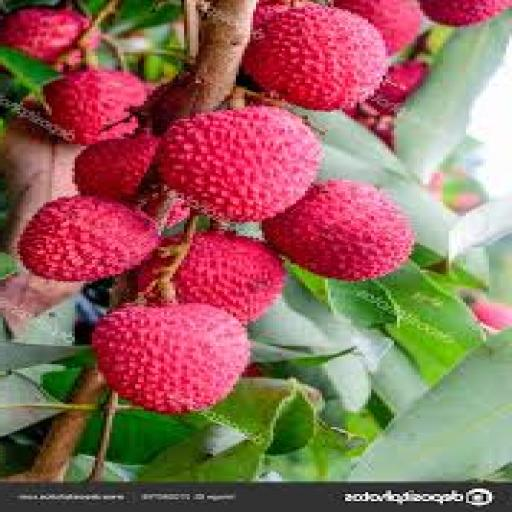lychee: (158, 107, 318, 221), (92, 305, 249, 414), (261, 181, 413, 281), (244, 4, 384, 109), (17, 197, 157, 281), (172, 231, 283, 322), (43, 69, 145, 144), (74, 134, 157, 201), (0, 8, 88, 63), (333, 0, 421, 54), (365, 60, 427, 115), (419, 0, 511, 27), (143, 197, 188, 228), (471, 302, 511, 331)
